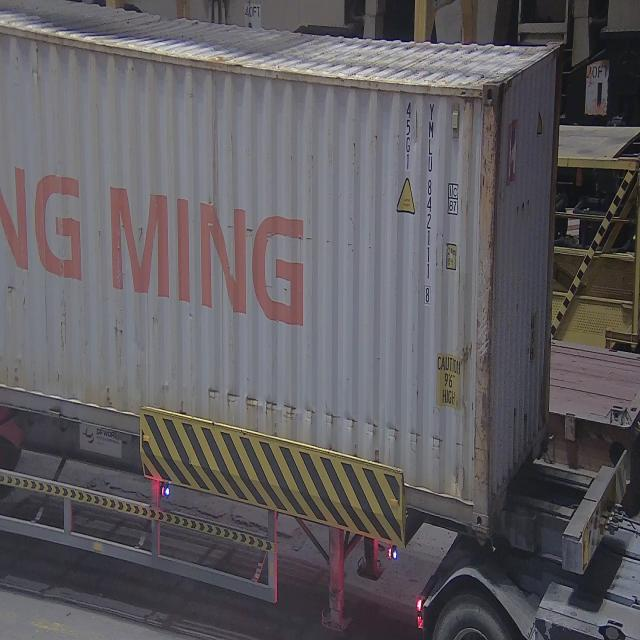dent: (202, 377, 449, 457)
